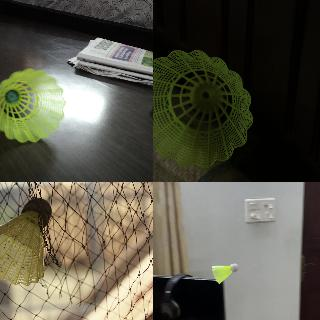shuttlecock: (153, 50, 253, 169), (0, 68, 65, 143), (0, 198, 52, 286), (212, 263, 238, 283)
